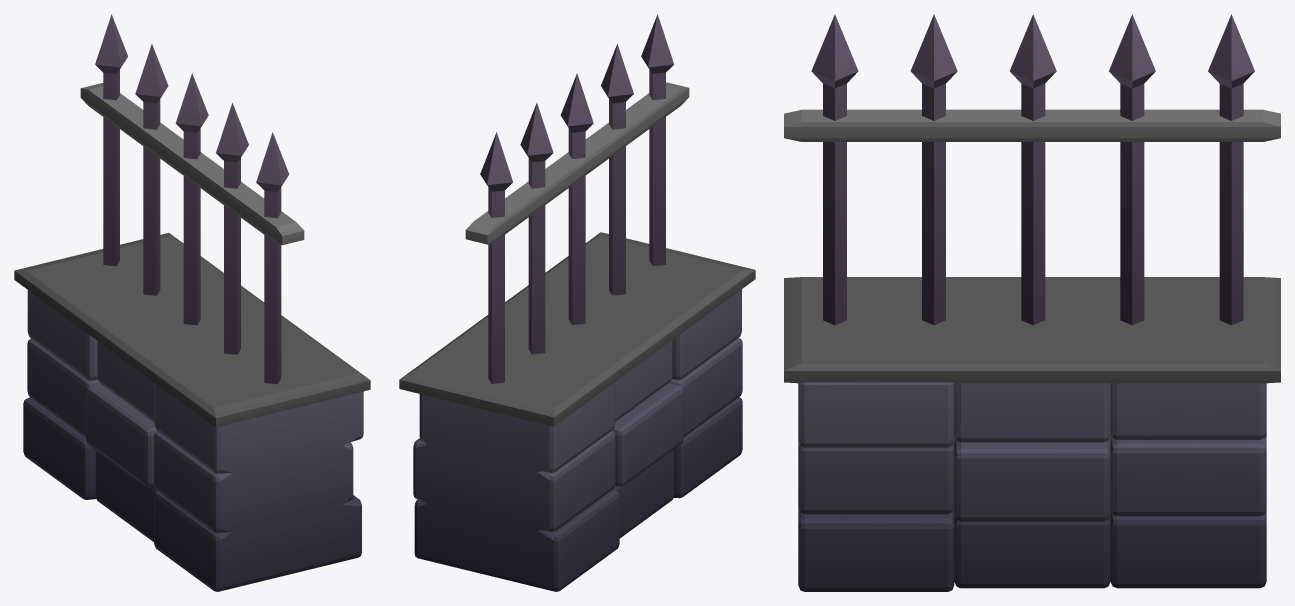
Rendered from Wall1v3.fbx.
The picture shows the model from 3 angles, left to right: view 1: azimuth 30°, elevation 25°; view 2: azimuth 150°, elevation 25°; view 3: azimuth 270°, elevation 25°; orthographic projection. The views are drawn at different scales.
Parts seen in each view (by area): view 1: Bricks, Brick_Hat, Spears, Spear_Hat; view 2: Bricks, Brick_Hat, Spears, Spear_Hat; view 3: Bricks, Brick_Hat, Spears, Spear_Hat.
Boxes of the visible parts, x1=… form: Bricks: x1=23, y1=290, x2=363, y2=591; Brick_Hat: x1=14, y1=233, x2=370, y2=427; Spears: x1=95, y1=14, x2=289, y2=384; Spear_Hat: x1=80, y1=83, x2=304, y2=245; Bricks: x1=413, y1=289, x2=742, y2=591; Brick_Hat: x1=399, y1=232, x2=755, y2=426; Spears: x1=480, y1=14, x2=673, y2=383; Spear_Hat: x1=465, y1=82, x2=689, y2=244; Bricks: x1=798, y1=382, x2=1266, y2=591; Brick_Hat: x1=784, y1=277, x2=1280, y2=383; Spears: x1=811, y1=14, x2=1254, y2=325; Spear_Hat: x1=784, y1=109, x2=1280, y2=141.
Size of the model in its own units: 311 by 819 by 690.
1 material, 1 textured.
